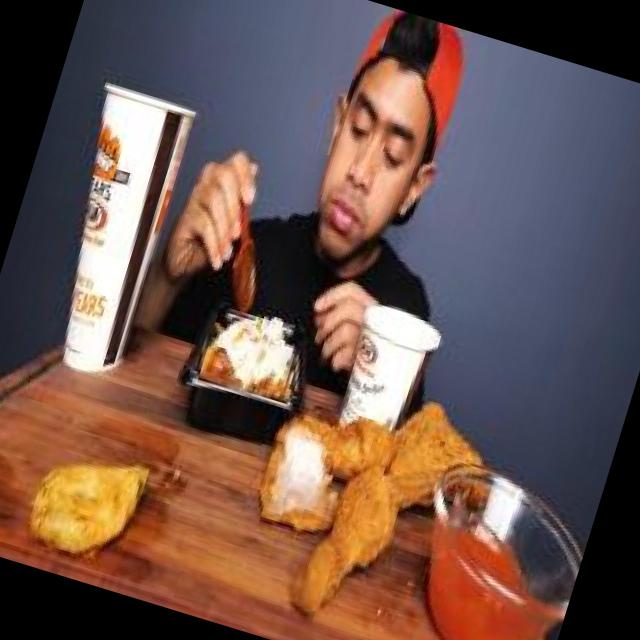AW cola: (15, 49, 223, 394)
black pepper rice bowl: (190, 286, 320, 429)
crispy corn: (332, 282, 455, 444)
fried chicken: (225, 347, 492, 640)
perkedel: (15, 421, 162, 581)
